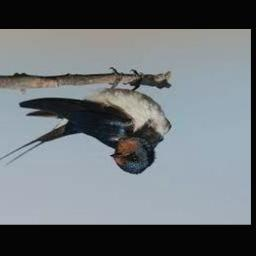Swallow: (0, 71, 170, 174)
